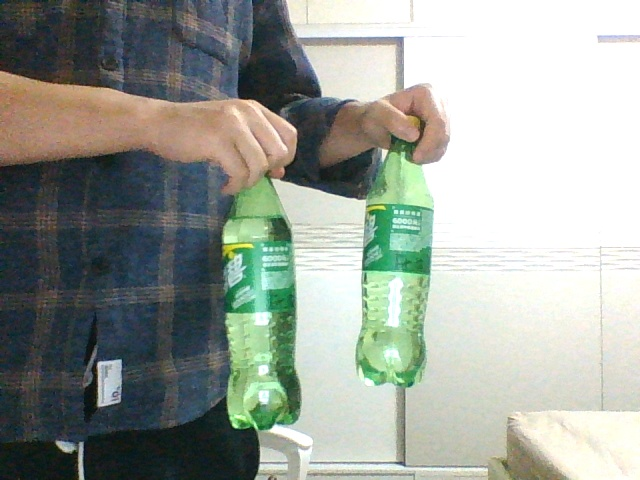Sprite: (354, 117, 433, 383), (222, 158, 298, 430)
